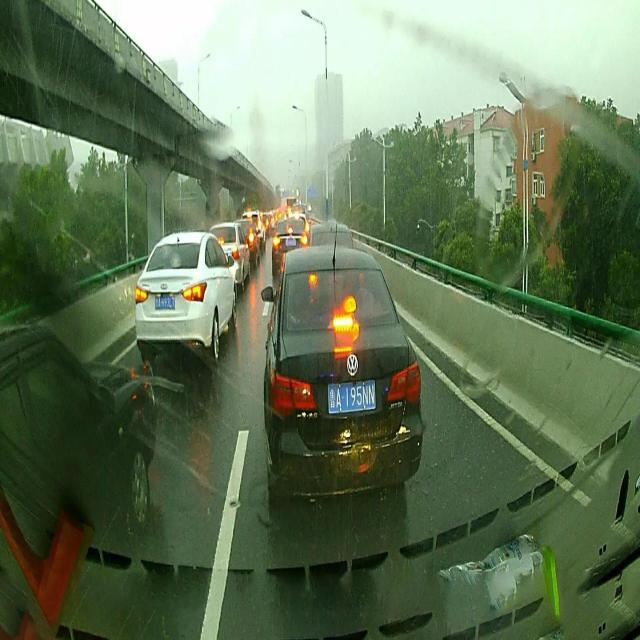car: (261, 245, 422, 490), (0, 318, 156, 537), (134, 231, 235, 357), (203, 220, 250, 290), (271, 224, 307, 282), (236, 223, 262, 268)
